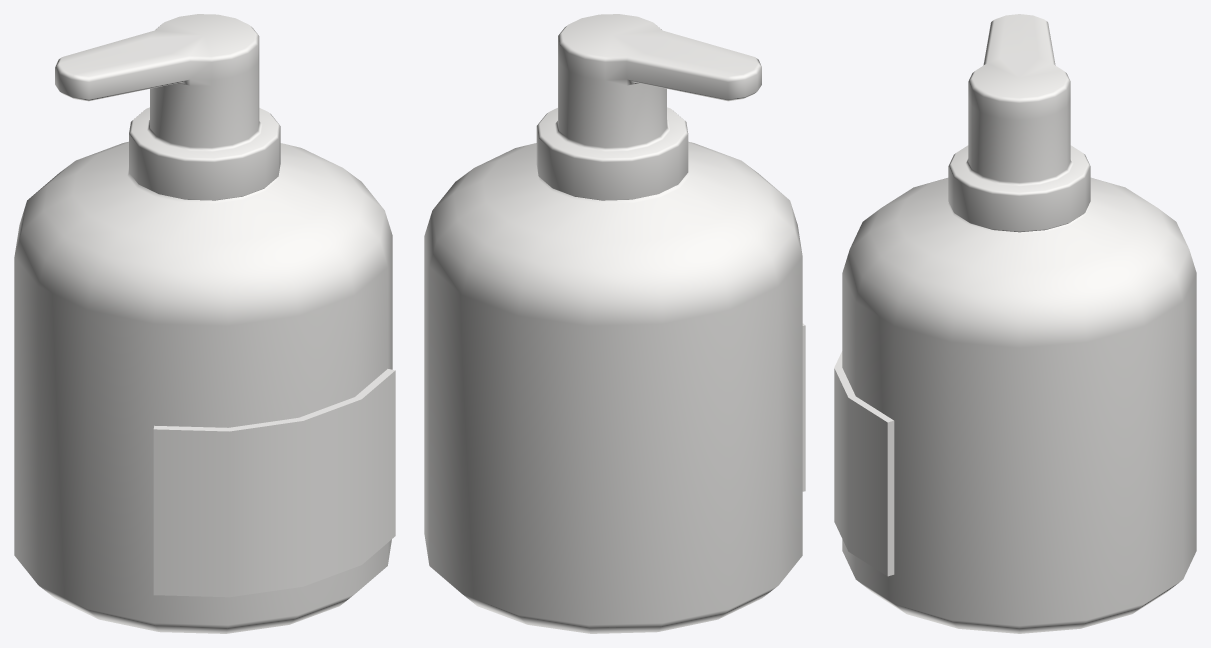
File: Bottle_14.glb
The picture shows the model from 3 angles, left to right: view 1: azimuth 30°, elevation 25°; view 2: azimuth 150°, elevation 25°; view 3: azimuth 270°, elevation 25°; orthographic projection. The views are drawn at different scales.
Parts seen in each view (by area): view 1: Bottle_14; view 2: Bottle_14; view 3: Bottle_14.
Part boxes in pixels (<box>): Bottle_14: <box>14,14,395,633</box>; Bottle_14: <box>424,14,805,633</box>; Bottle_14: <box>834,14,1196,633</box>.
Bounding box in the file's own units: 0.1329 × 0.2023 × 0.1359.
2 materials, 2 textured.
